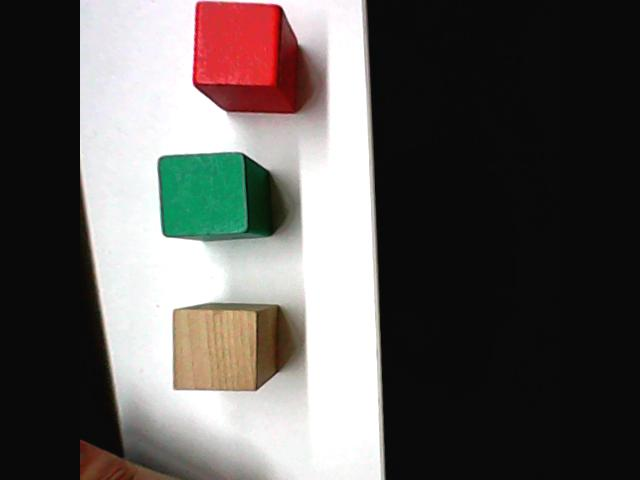green_box: (153, 149, 276, 244)
raw_box: (167, 300, 283, 394)
red_box: (186, 0, 305, 116)
